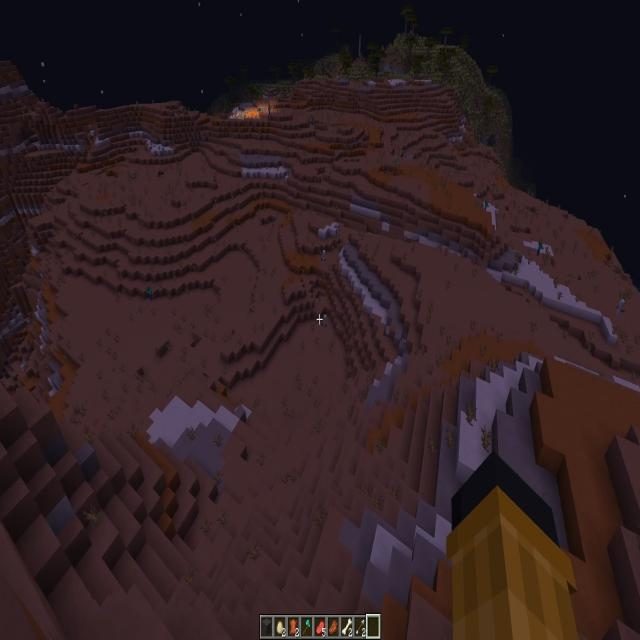Creeper: (393, 156, 397, 167)
Skeleton: (617, 300, 623, 315), (323, 316, 327, 329), (132, 171, 136, 182), (336, 222, 339, 236), (323, 250, 326, 263)
Spider: (158, 170, 164, 177)
Zombie: (147, 285, 153, 299), (537, 242, 542, 255), (484, 199, 489, 209), (268, 106, 271, 115), (311, 117, 314, 124)
